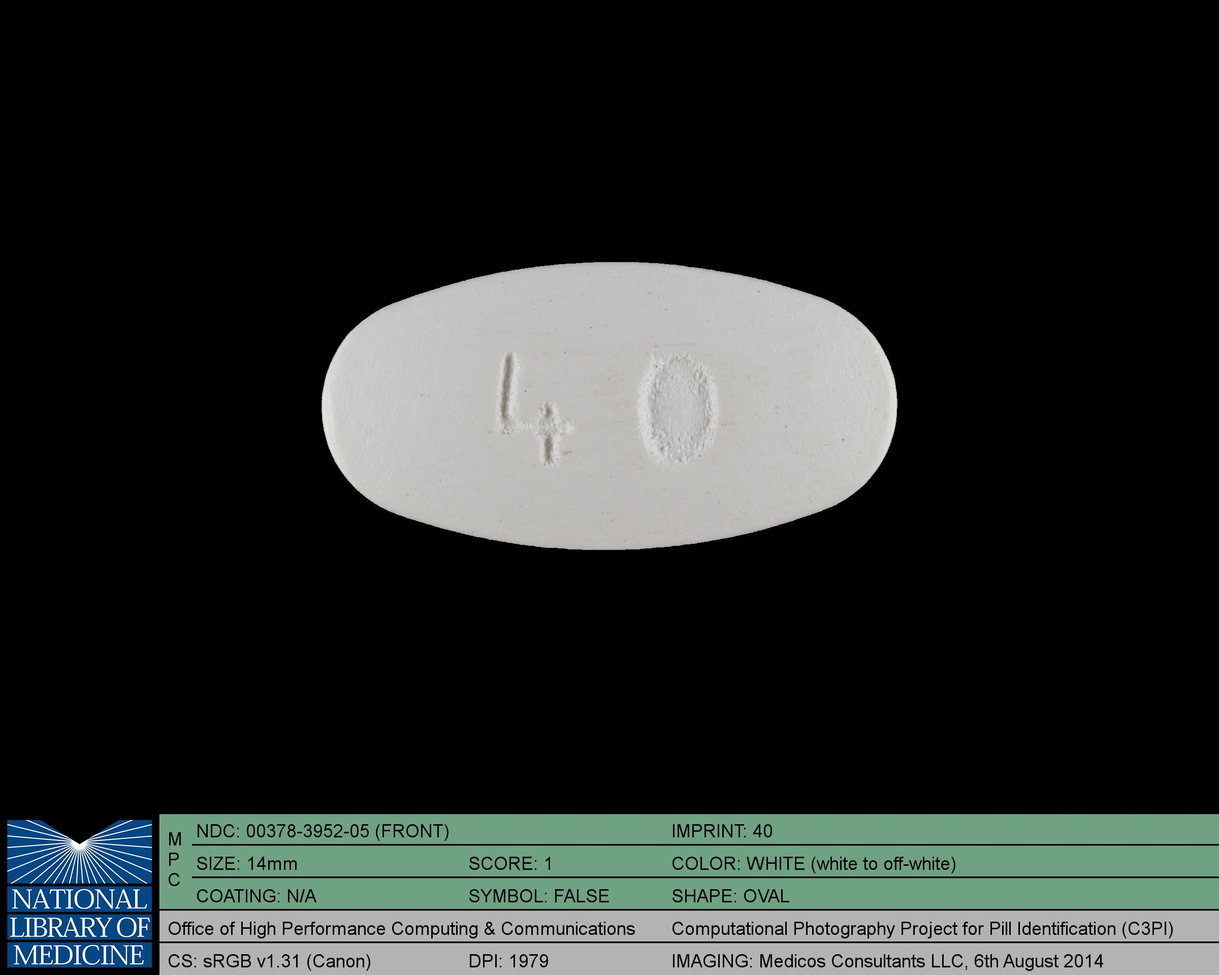Pill: (306, 249, 911, 560)
